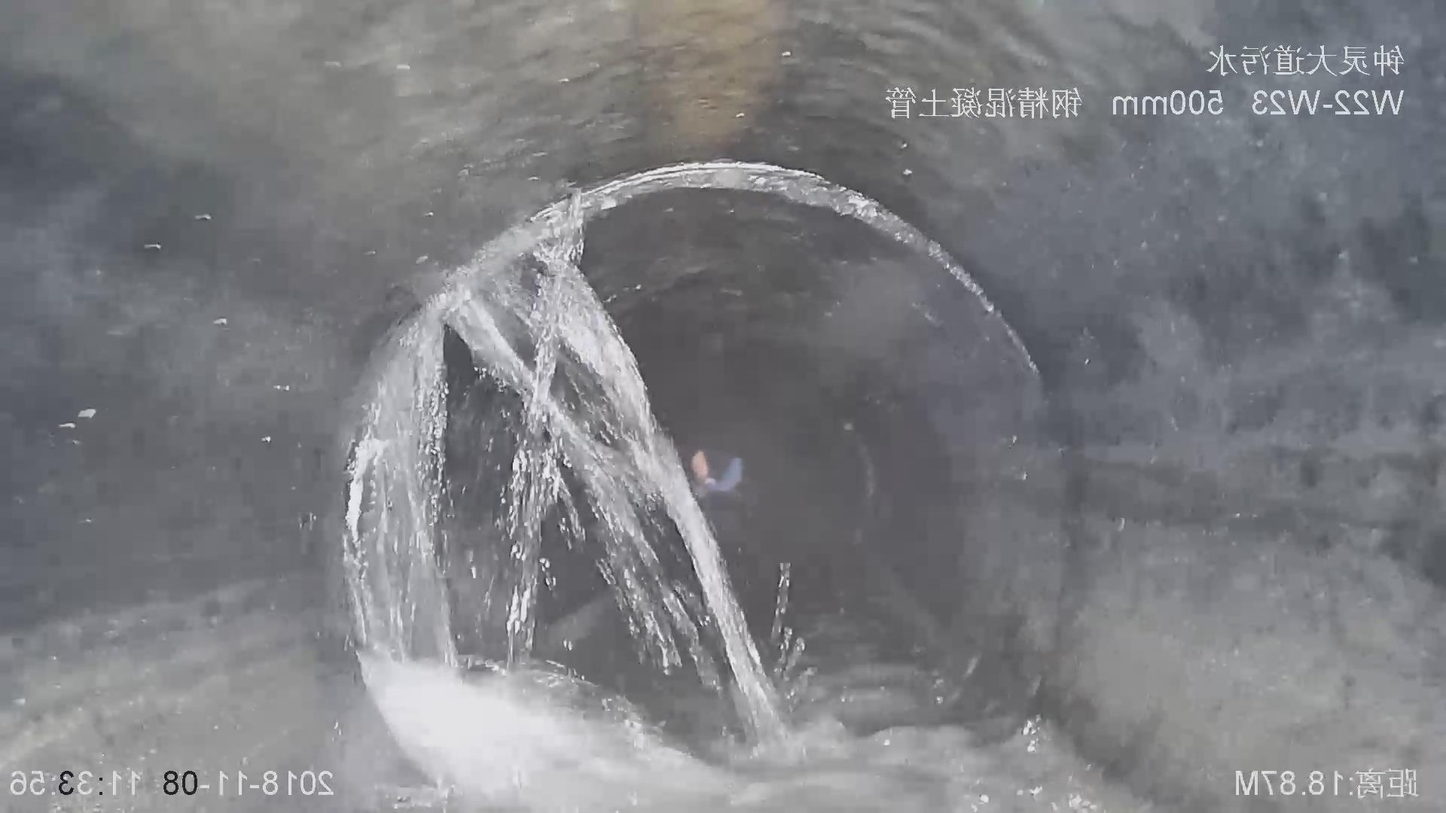CKTJ: (328, 153, 1061, 798)
SL: (310, 171, 867, 811)
